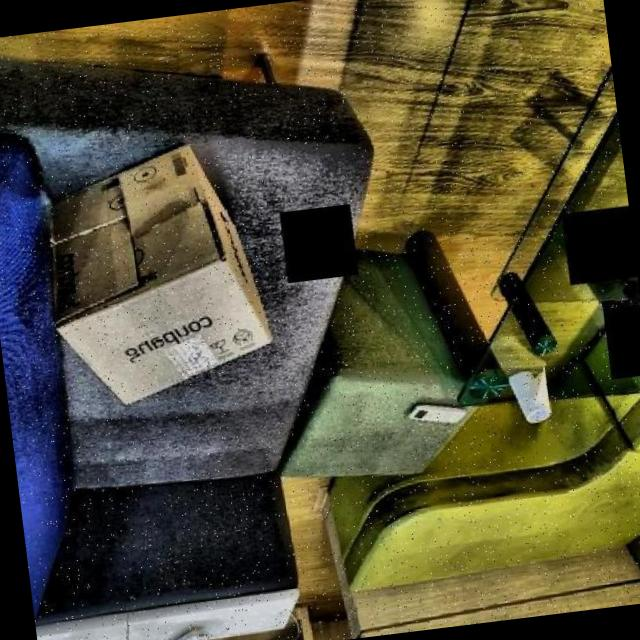box: (31, 135, 284, 416)
